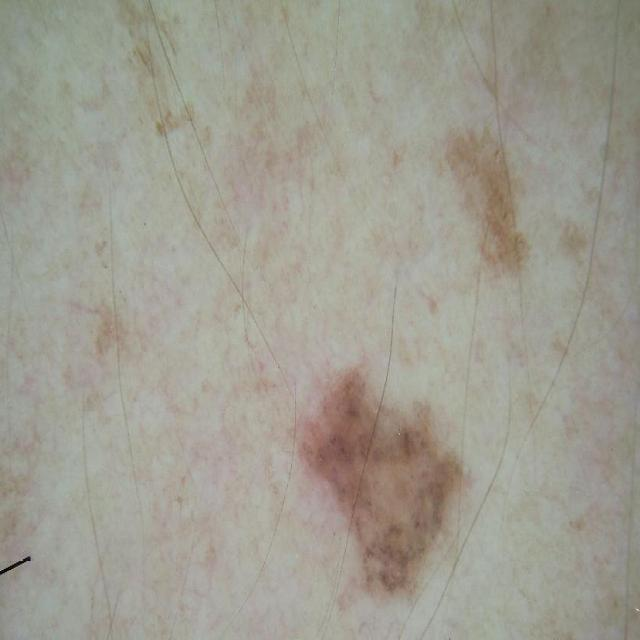Melanoma: (273, 310, 496, 638)
